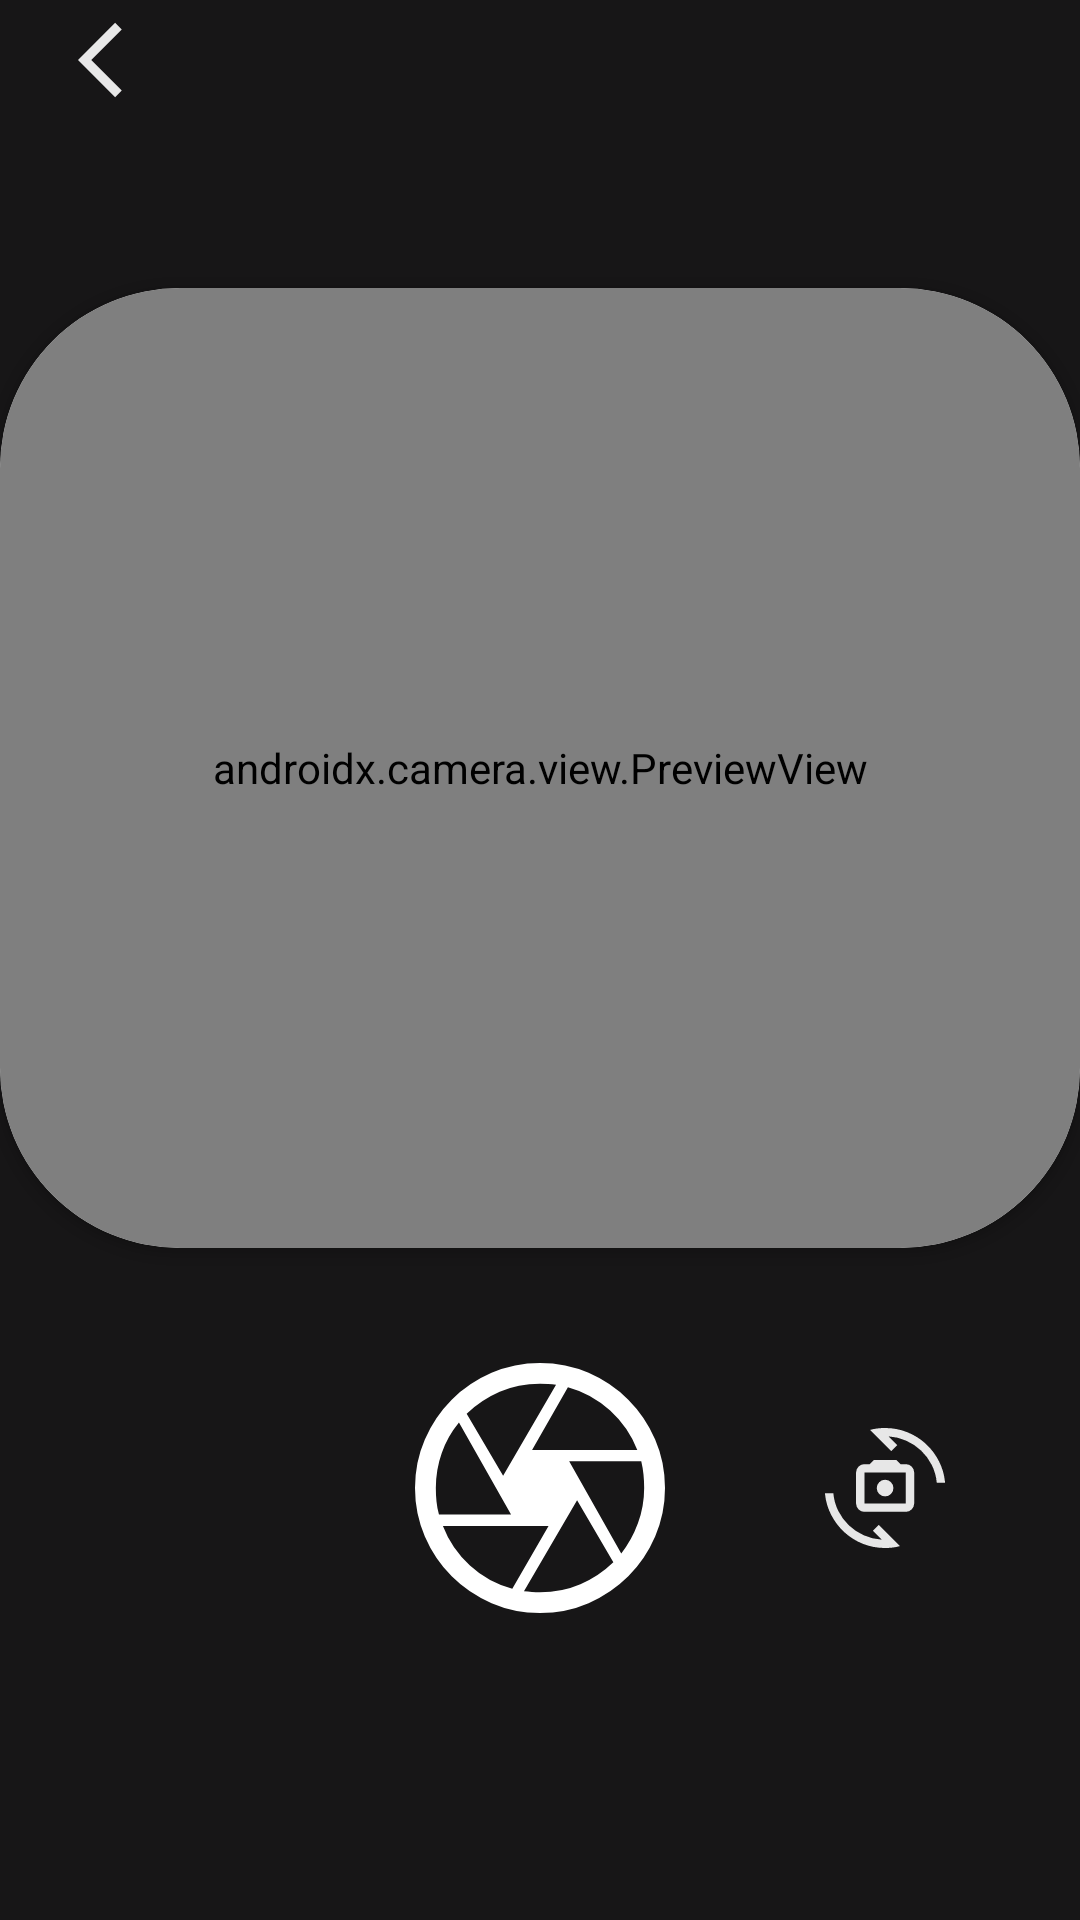

Icons on this 1080×1920 Android screen, each with the point to tap as (x=x, y=y):
back: (x=100, y=60)
rotate: (x=885, y=1488)
